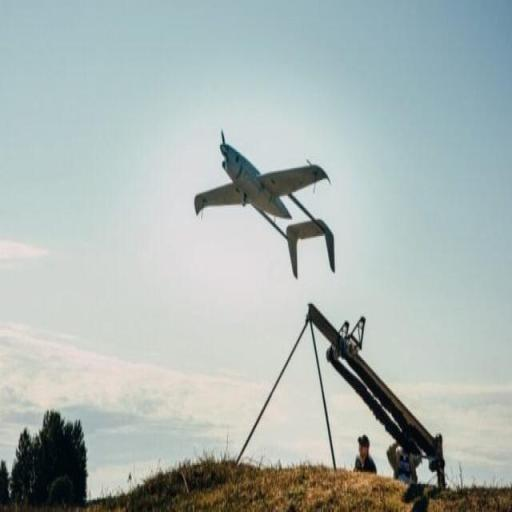uav: (192, 124, 342, 280)
